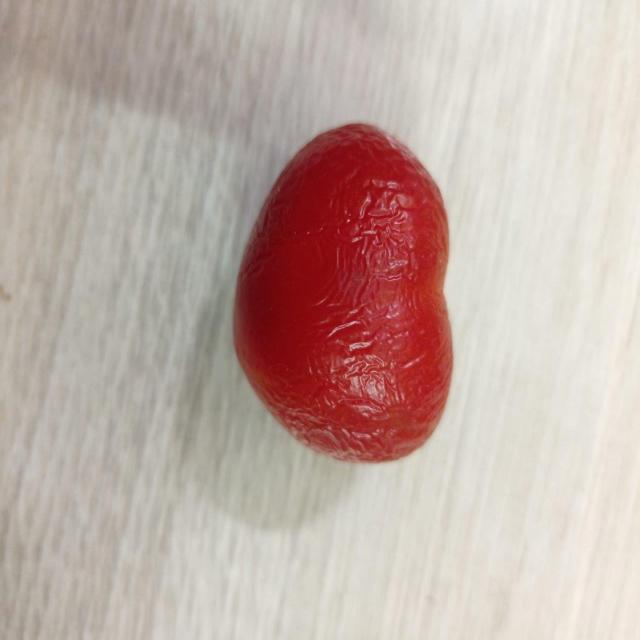overripe: (233, 119, 457, 468)
